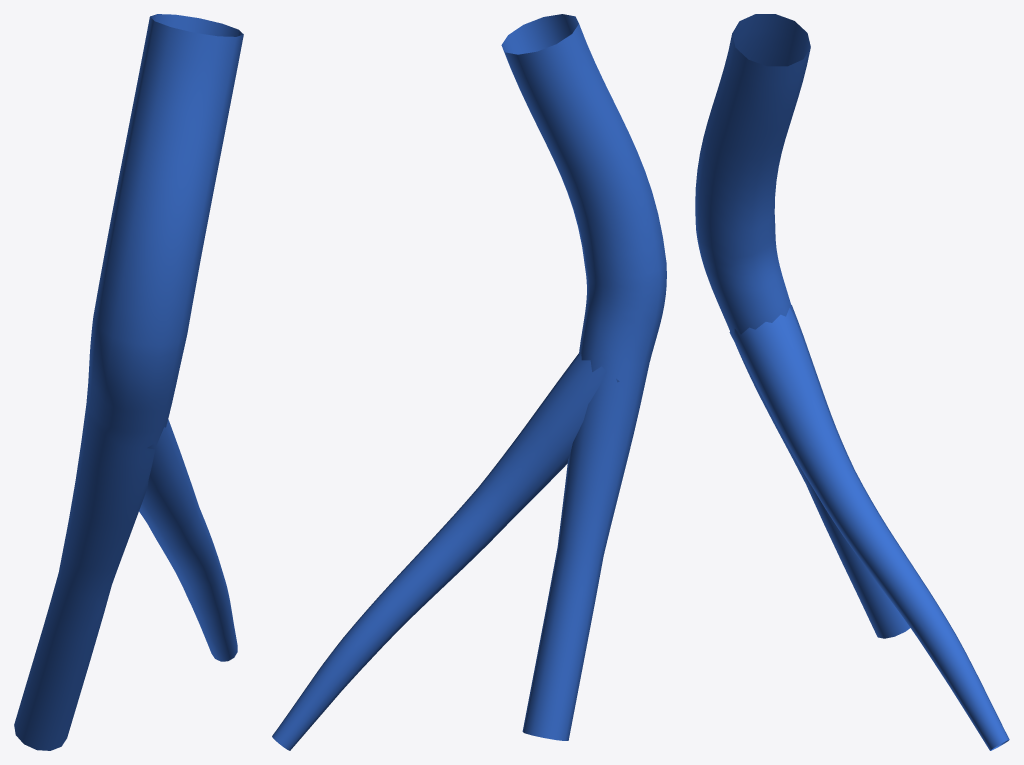
File: circulatorio-medial-basal-segmental-artery-of-left-lung.glb
3 views of the same model, side by side, from view 1: azimuth 30°, elevation 25°; view 2: azimuth 150°, elevation 25°; view 3: azimuth 270°, elevation 25° (orthographic). The views are drawn at different scales.
Visible parts, largest first — view 1: Medial basal segmental artery of left lung; view 2: Medial basal segmental artery of left lung; view 3: Medial basal segmental artery of left lung.
Part boxes in pixels (x1,y1,x2,y2): Medial basal segmental artery of left lung: (14, 14, 243, 750); Medial basal segmental artery of left lung: (272, 14, 666, 750); Medial basal segmental artery of left lung: (695, 14, 1009, 750).
Size of the model in its own units: 0.0249 by 0.0635 by 0.0276.
